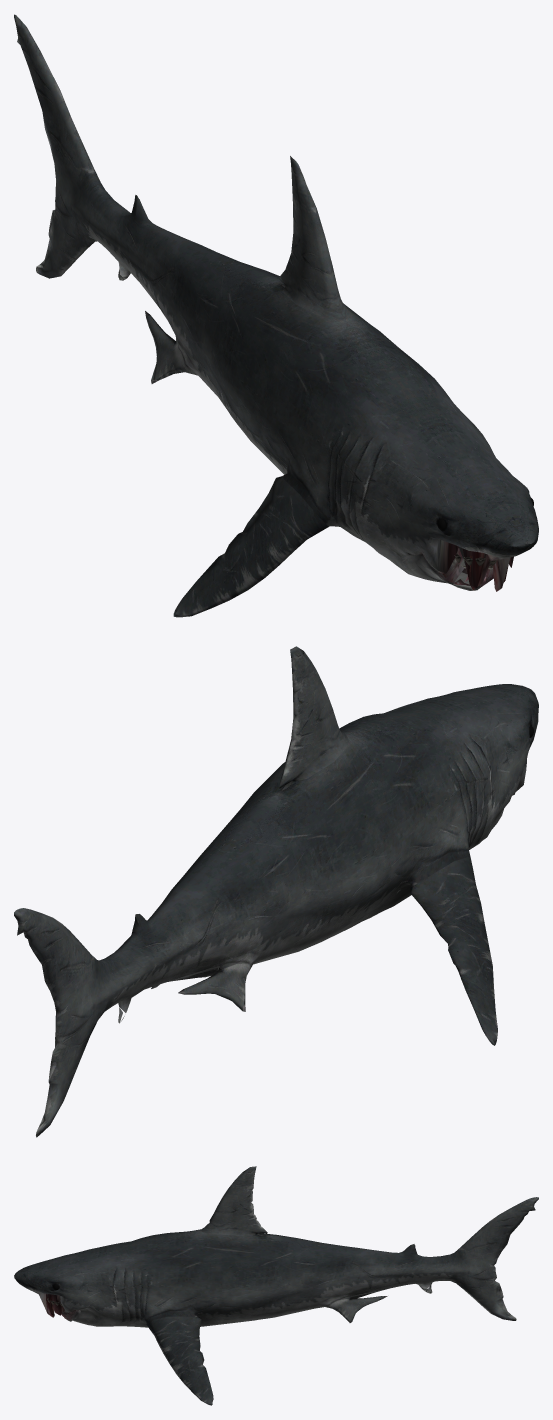
The model's file is shark_hirst_pose.glb.
The picture shows the model from 3 angles, top to bottom: view 1: azimuth 30°, elevation 25°; view 2: azimuth 150°, elevation 25°; view 3: azimuth 270°, elevation 25°; orthographic projection. The views are drawn at different scales.
Visible parts, largest first — view 1: Object_3; view 2: Object_3; view 3: Object_3.
Part boxes in pixels (box(x1,y1,x2,y2)): Object_3: box(14, 14, 538, 617); Object_3: box(14, 646, 538, 1137); Object_3: box(14, 1166, 538, 1405).
Bounding box in the file's own units: 4.45 × 5.16 × 12.32.
3 materials, 3 textured.
